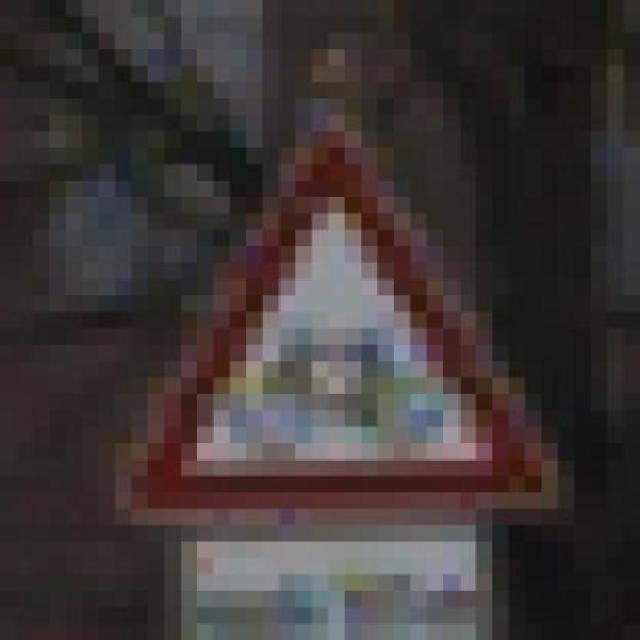CYCLE ROUTE AHEAD WARNING: (98, 98, 591, 525)
